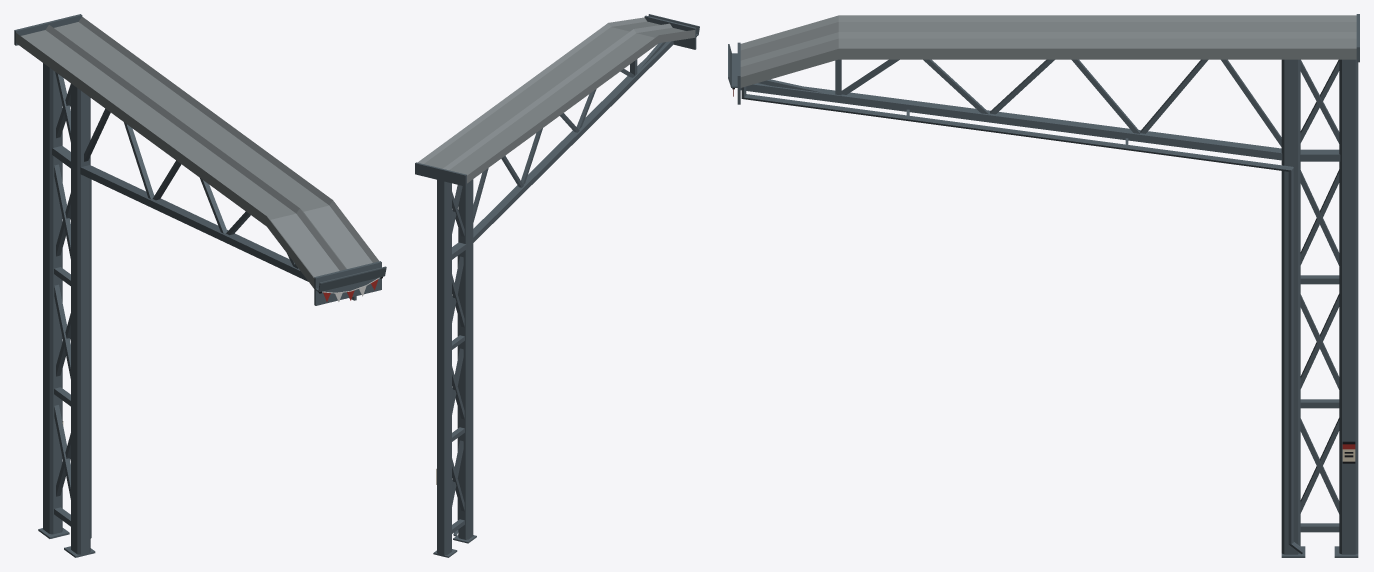
The model's file is stand-roof-run-cfd457.glb.
3 views of the same model, side by side, from view 1: azimuth 30°, elevation 25°; view 2: azimuth 150°, elevation 25°; view 3: azimuth 270°, elevation 25° (orthographic). The views are drawn at different scales.
Visible parts, largest first — view 1: roof; view 2: roof; view 3: roof.
Boxes of the visible parts, x1,y1,x2,y2 form: roof: [14, 14, 386, 557]; roof: [415, 14, 699, 557]; roof: [728, 14, 1359, 557].
Bounding box in the file's own units: 1 × 7.3 × 8.
